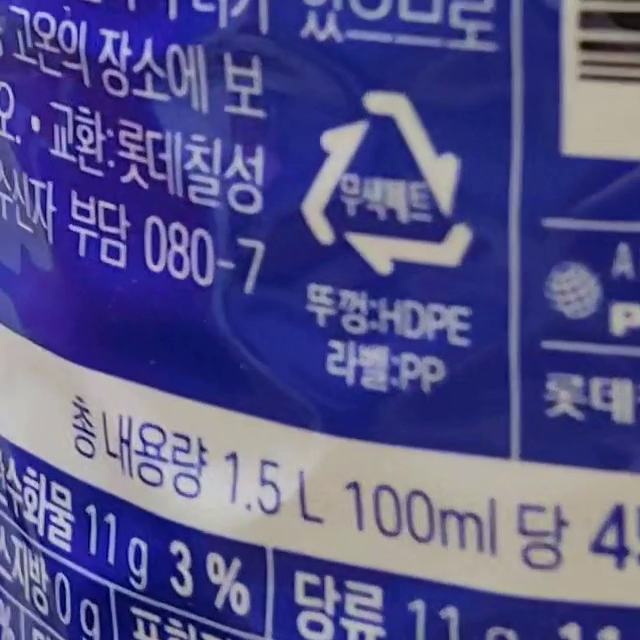ColorlessPet: (298, 93, 473, 278)
